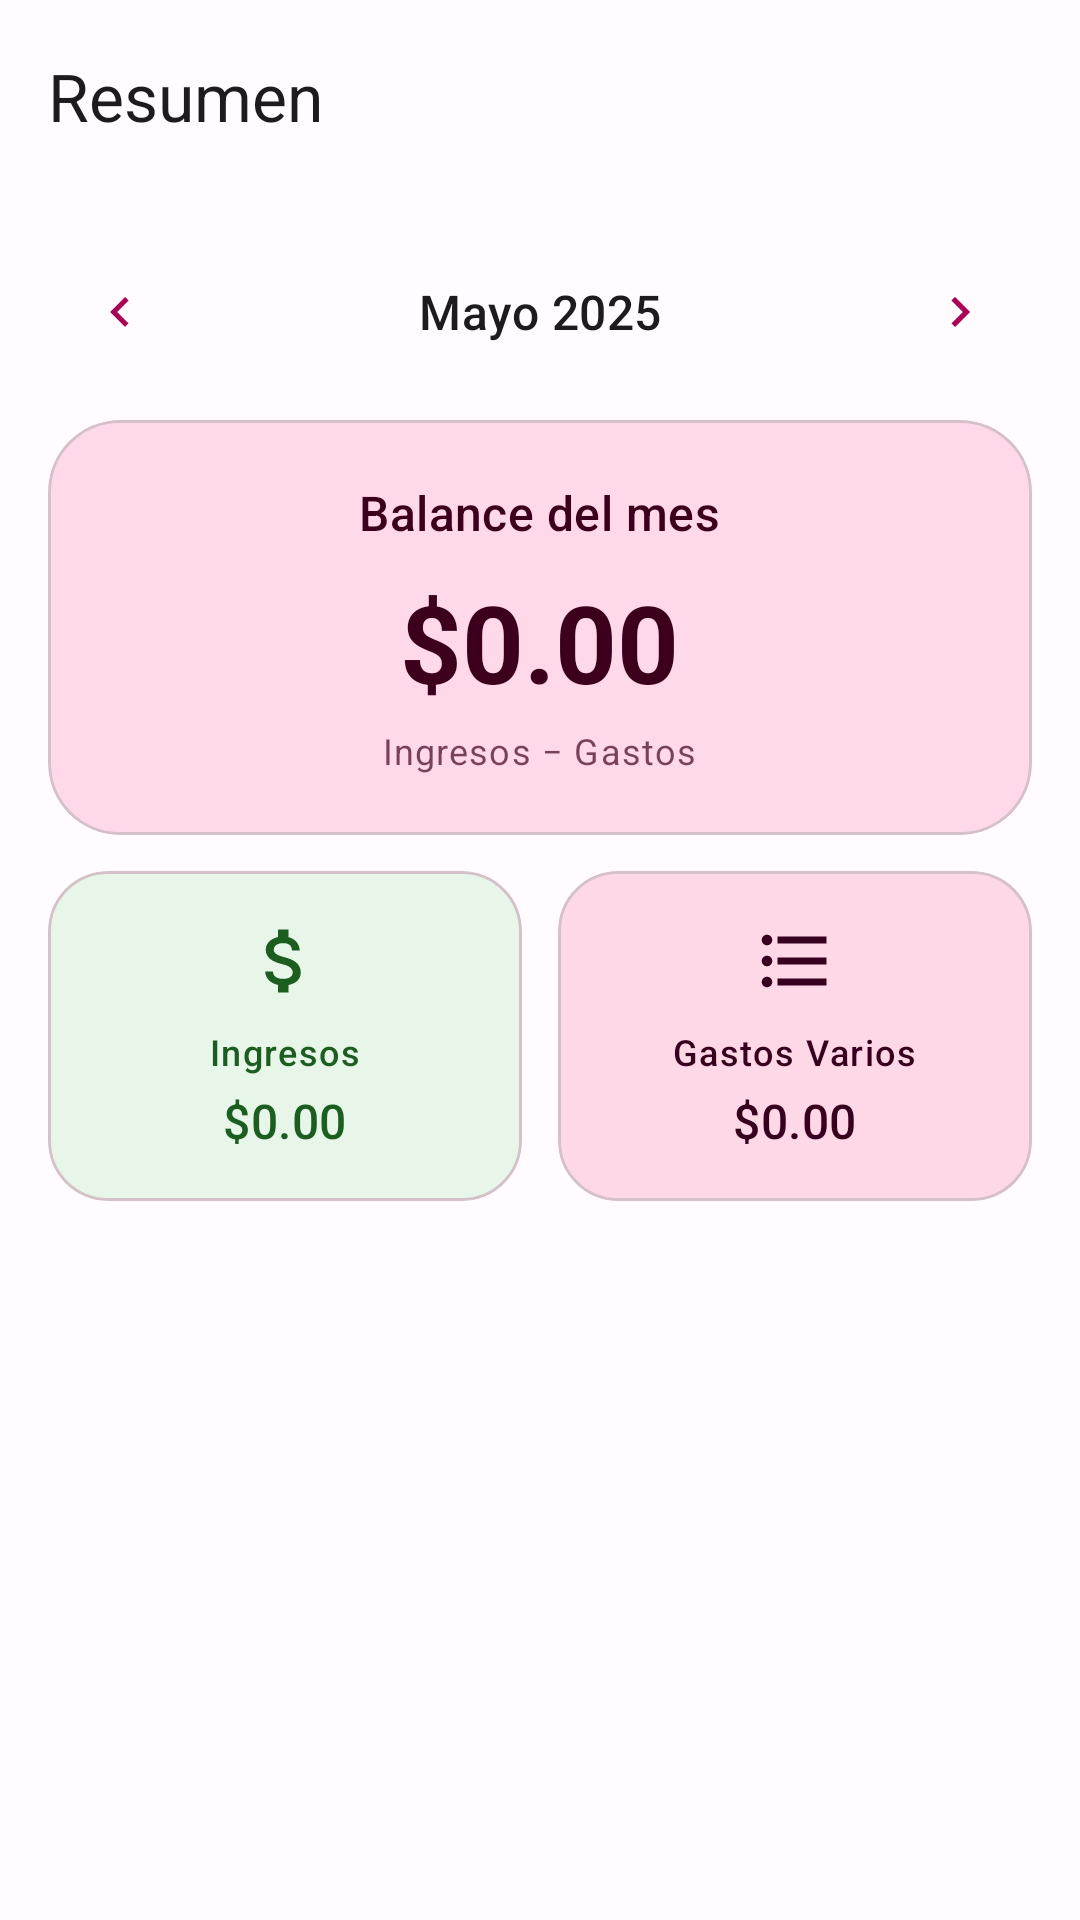

Named icons in this screenshot (1080×1920) and their centers, [x,y]:
Mes anterior: [119,312]
Mes siguiente: [960,312]
